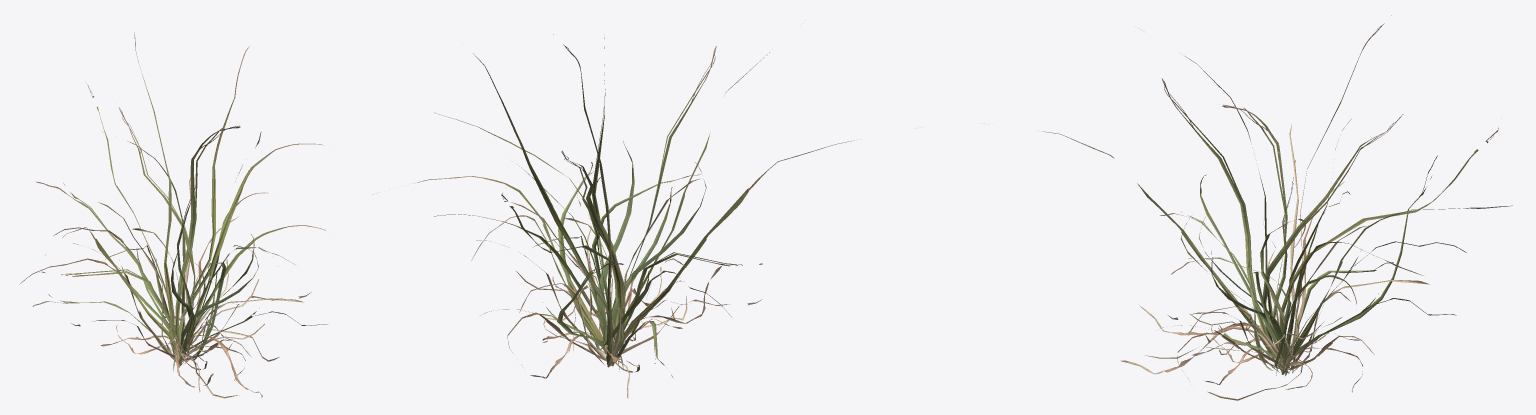
3 views of the same model, side by side, from view 1: azimuth 30°, elevation 25°; view 2: azimuth 150°, elevation 25°; view 3: azimuth 270°, elevation 25° (orthographic). The views are drawn at different scales.
Parts seen in each view (by area): view 1: grass_medium_02__d_lod0; view 2: grass_medium_02__d_lod0; view 3: grass_medium_02__d_lod0.
Part boxes in pixels (x1,y1,x2,y2): grass_medium_02__d_lod0: [19, 32, 327, 398]; grass_medium_02__d_lod0: [372, 34, 854, 398]; grass_medium_02__d_lod0: [981, 15, 1512, 400].
Size of the model in its own units: 0.33 by 0.2789 by 0.3801.
1 material, 1 textured.
